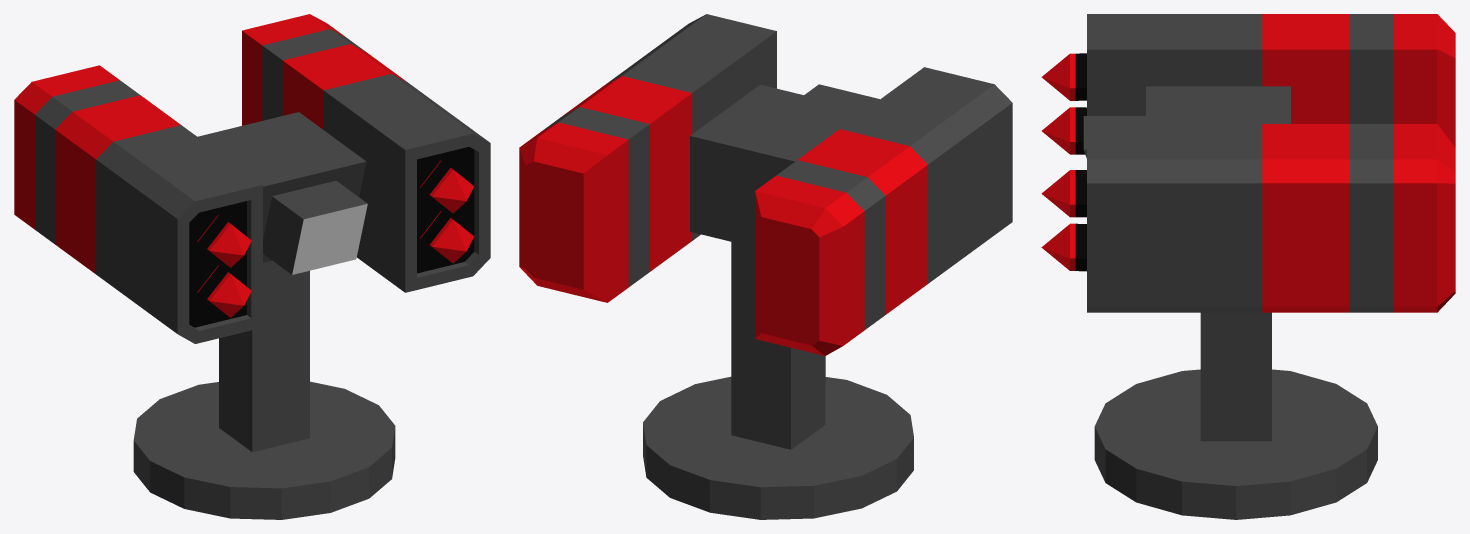
Rendered from RocketTurret.fbx.
3 renders of one model, left to right at view 1: azimuth 30°, elevation 25°; view 2: azimuth 150°, elevation 25°; view 3: azimuth 270°, elevation 25°, orthographic. The views are drawn at different scales.
Parts seen in each view (by area): view 1: RocketTurret_Body, RocketTurret_Base, RocketTurret_Body2, Rockets; view 2: RocketTurret_Body, RocketTurret_Base, RocketTurret_Body2; view 3: RocketTurret_Body, RocketTurret_Base, RocketTurret_Body2, Rockets.
Part boxes in pixels (x1,y1,x2,y2): RocketTurret_Body: [14, 14, 490, 343]; RocketTurret_Base: [133, 260, 395, 519]; RocketTurret_Body2: [197, 112, 367, 274]; Rockets: [197, 160, 474, 317]; RocketTurret_Body: [519, 14, 1012, 355]; RocketTurret_Base: [643, 242, 913, 519]; RocketTurret_Body2: [690, 84, 879, 247]; RocketTurret_Body: [1087, 14, 1455, 312]; RocketTurret_Base: [1094, 312, 1377, 519]; RocketTurret_Body2: [1083, 86, 1290, 158]; Rockets: [1041, 53, 1086, 271].
Bounding box in the file's own units: 7.08 × 7.57 × 7.53.
